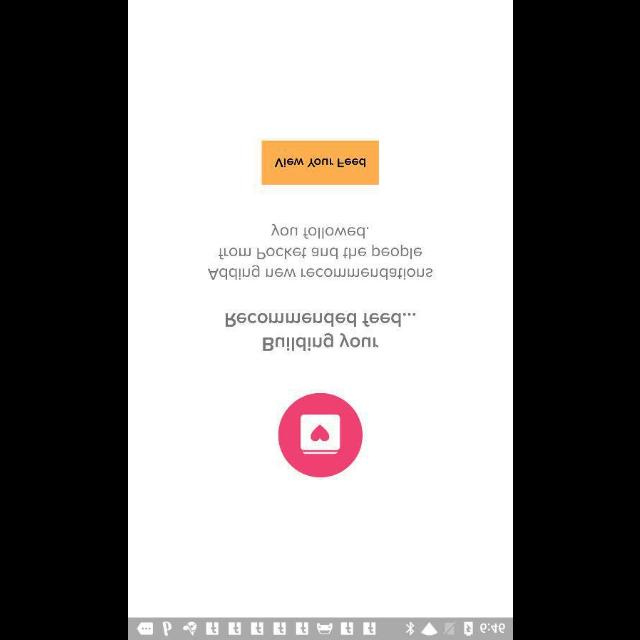image: (278, 393, 362, 477)
text: (208, 223, 432, 280), (225, 311, 415, 351)
textbutton: (261, 140, 379, 184)
uppertaskbar: (128, 617, 512, 639)
